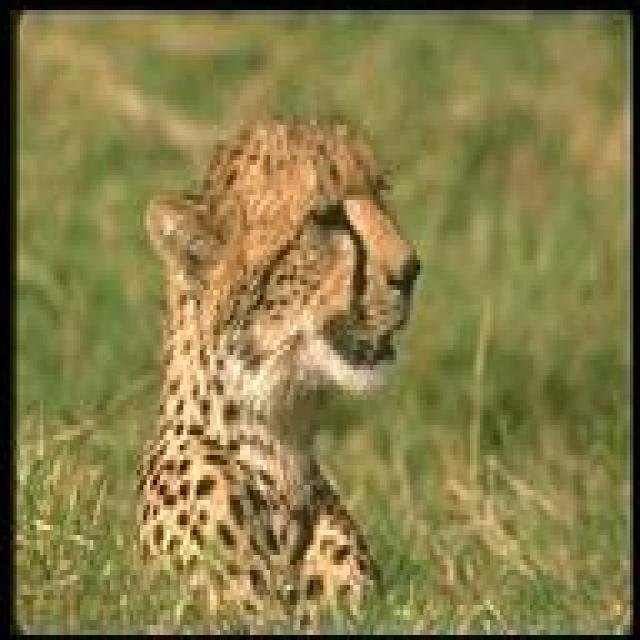Leopard: (139, 114, 421, 620)
